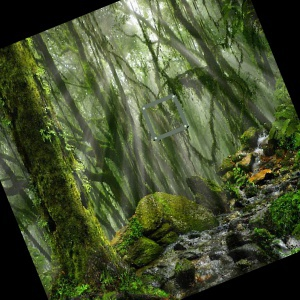square: (139, 93, 192, 143)
